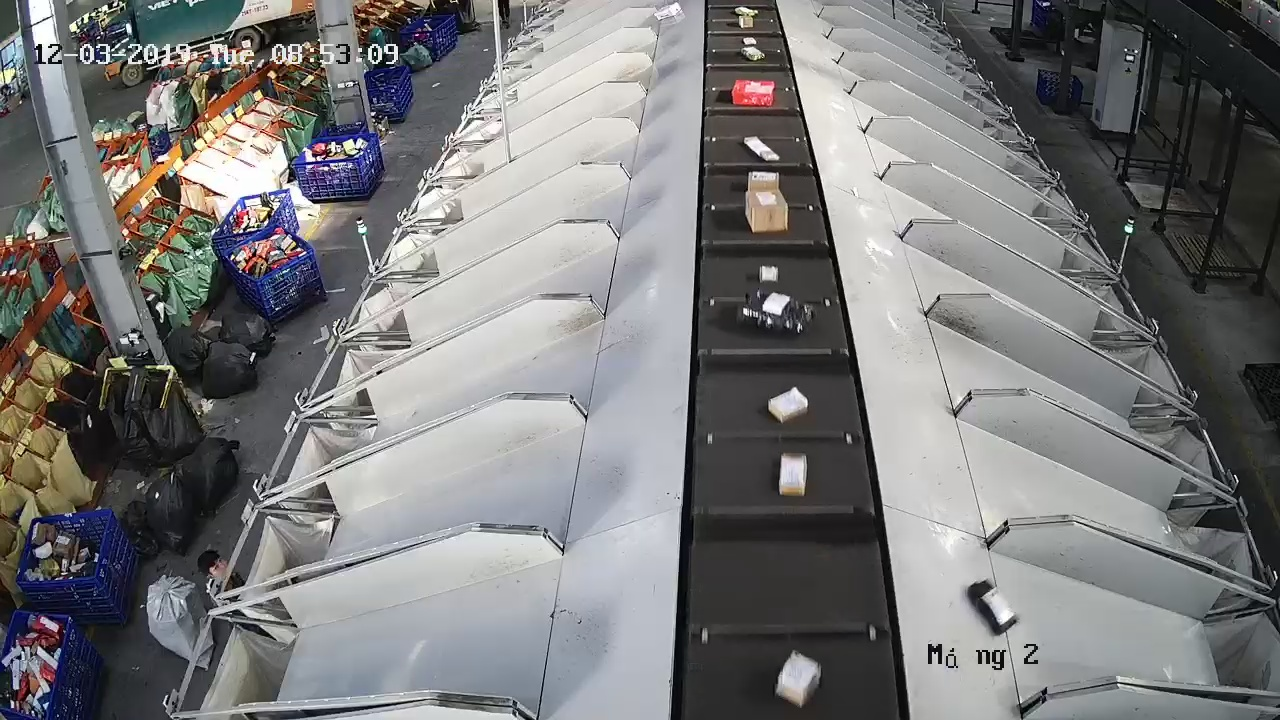parcel: (736, 287, 818, 337), (965, 576, 1021, 637), (773, 648, 824, 711), (743, 189, 791, 235), (765, 384, 811, 425), (776, 450, 809, 499), (742, 134, 781, 162), (757, 263, 781, 285)
